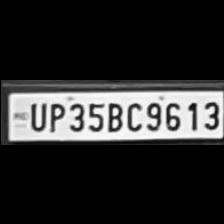1: (182, 97, 200, 130)
3: (199, 96, 221, 130), (64, 97, 84, 130)
5: (84, 97, 104, 130)
6: (162, 97, 182, 130)
9: (142, 97, 162, 130)
B: (102, 98, 122, 132)
C: (122, 97, 142, 130)
P: (46, 98, 64, 132)
U: (24, 98, 46, 130)
